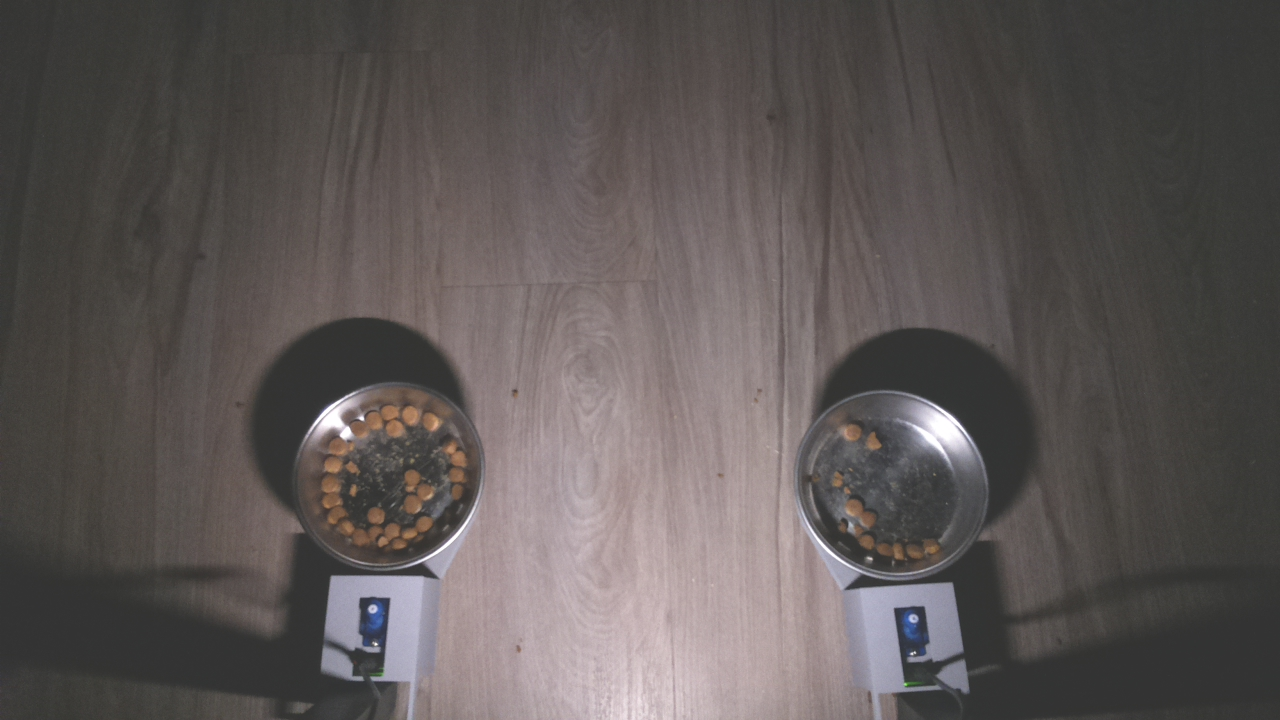open_bowl: (785, 383, 997, 584), (292, 376, 484, 568)
